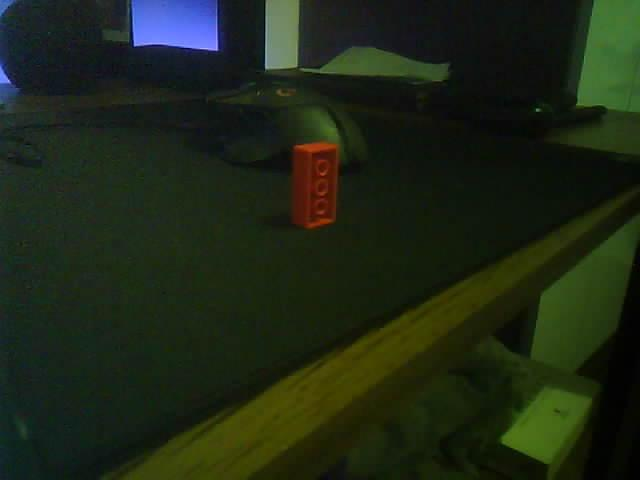lego: (292, 139, 339, 229)
